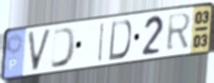2: (139, 13, 167, 60)
D: (49, 25, 77, 70), (107, 19, 132, 62)
I: (97, 21, 106, 64)
R: (165, 11, 194, 54)
V: (26, 27, 54, 73)
